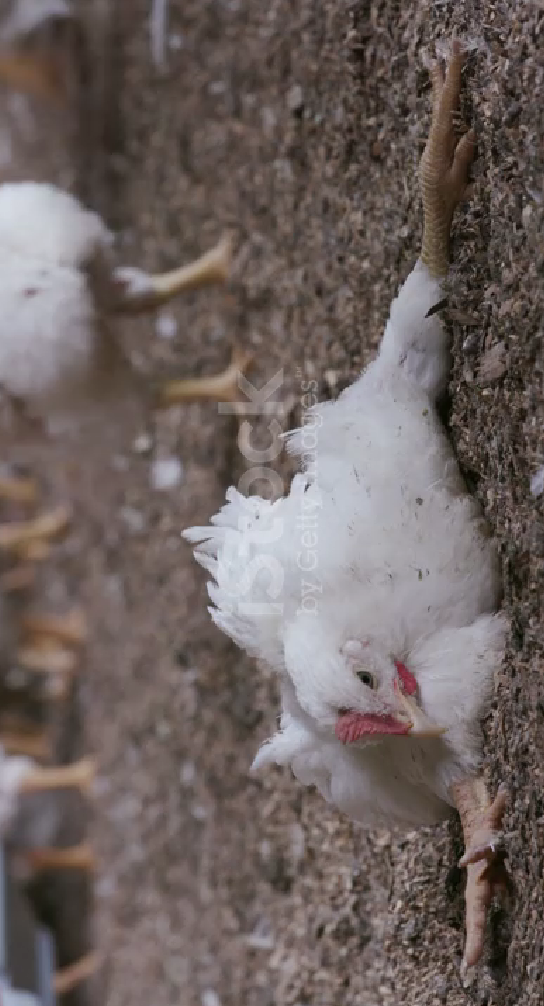Unhealthy: (142, 44, 520, 980)
